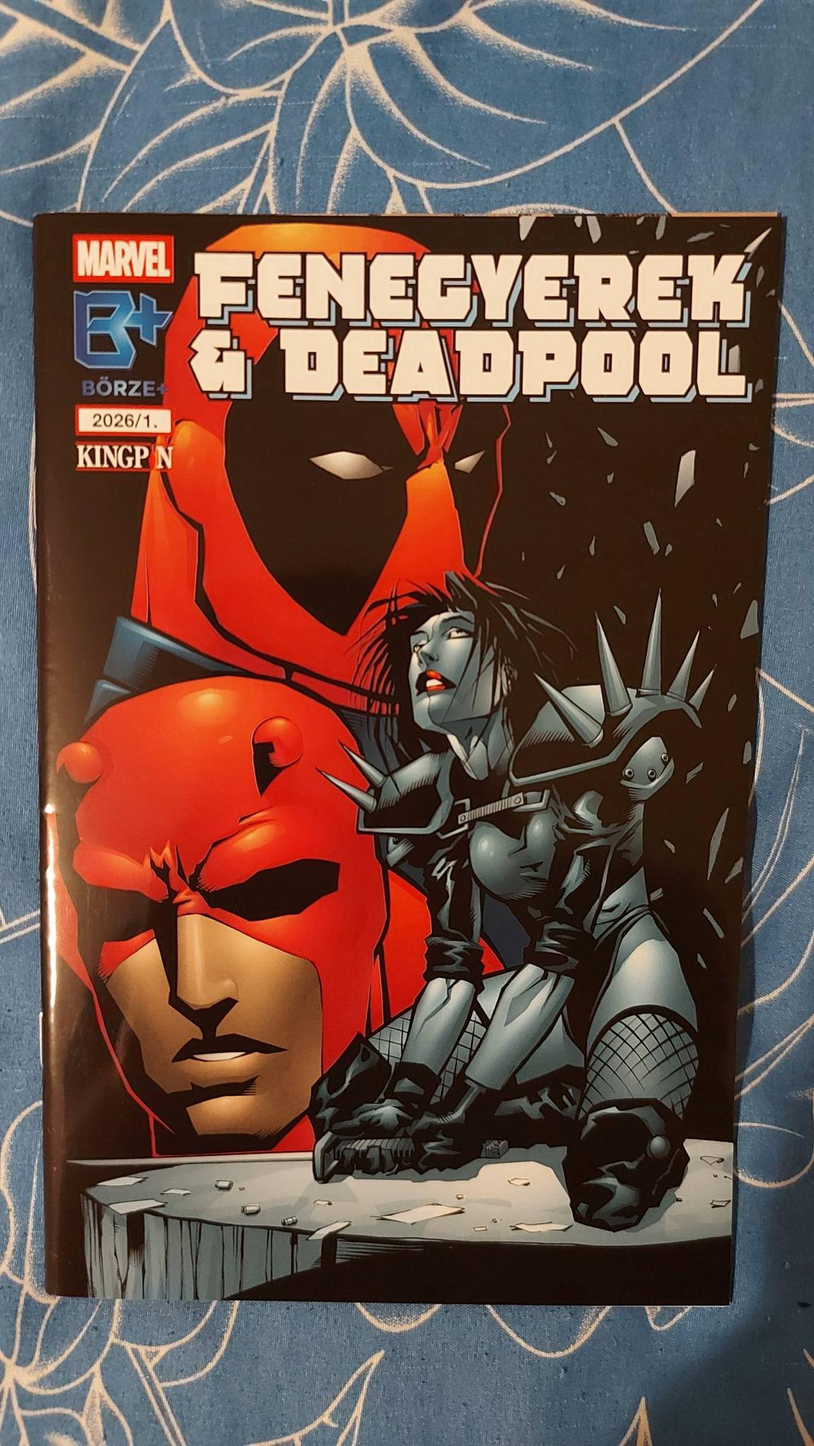comic: (35, 215, 781, 1303)
